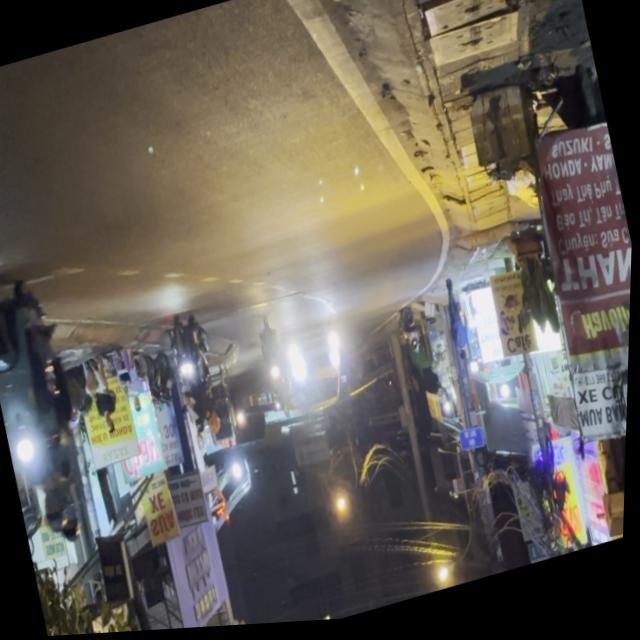helmet: (38, 480, 75, 539)
licenseplate: (0, 253, 108, 554)
